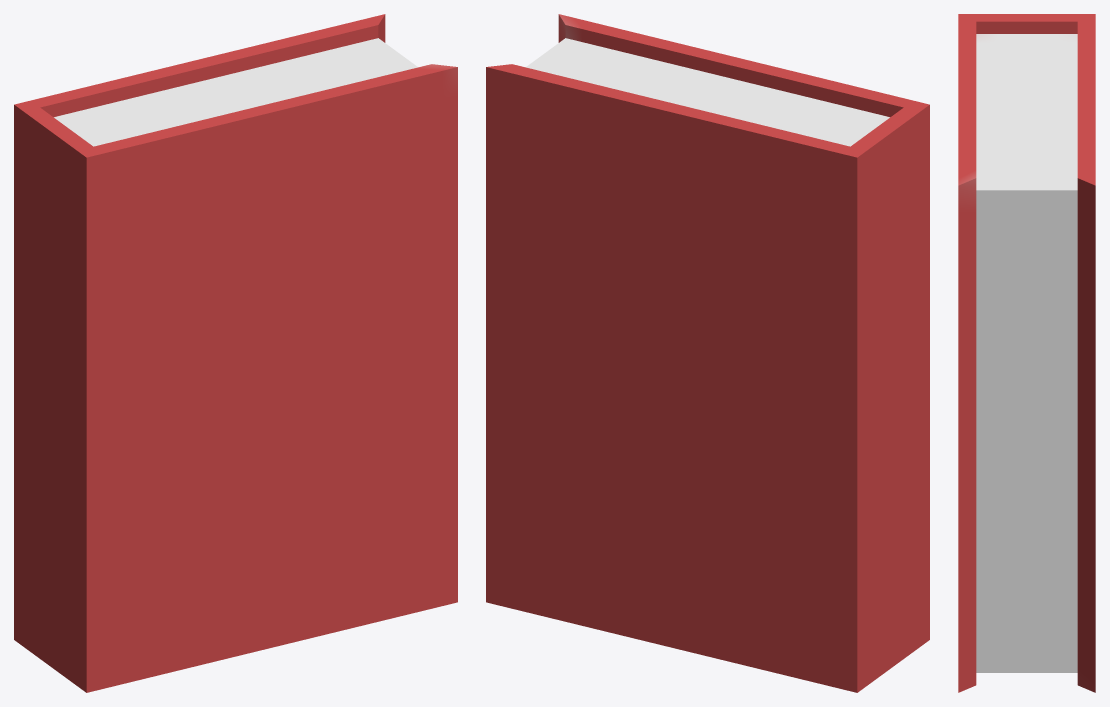
File: book_03.fbx
The picture shows the model from 3 angles, left to right: view 1: azimuth 30°, elevation 25°; view 2: azimuth 150°, elevation 25°; view 3: azimuth 270°, elevation 25°; orthographic projection. The views are drawn at different scales.
Parts seen in each view (by area): view 1: book_03; view 2: book_03; view 3: book_03.
Boxes of the visible parts, x1,y1,x2,y2 form: book_03: [14, 14, 457, 692]; book_03: [486, 14, 929, 692]; book_03: [958, 14, 1095, 692].
Size of the model in its own units: 145 by 200 by 49.09.
